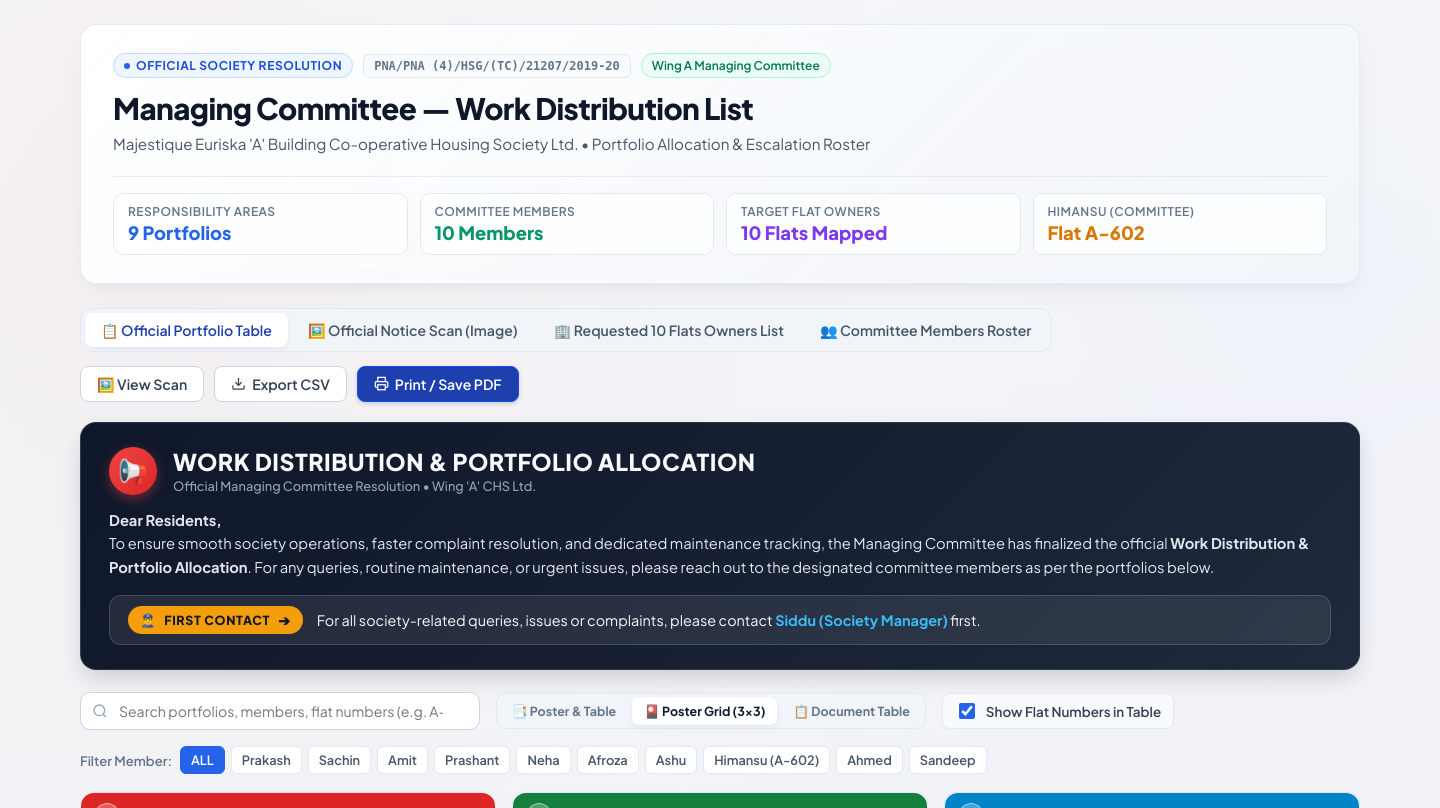
Test: WorkDistributionList Component › switches to Official Notice Scan tab and renders the original image
The image size is (1440, 808).
Click the tab "🖼️ Official Notice Scan (Image)": (413, 330) top-left (292, 313), bottom-right (534, 347)
(page scrolled)
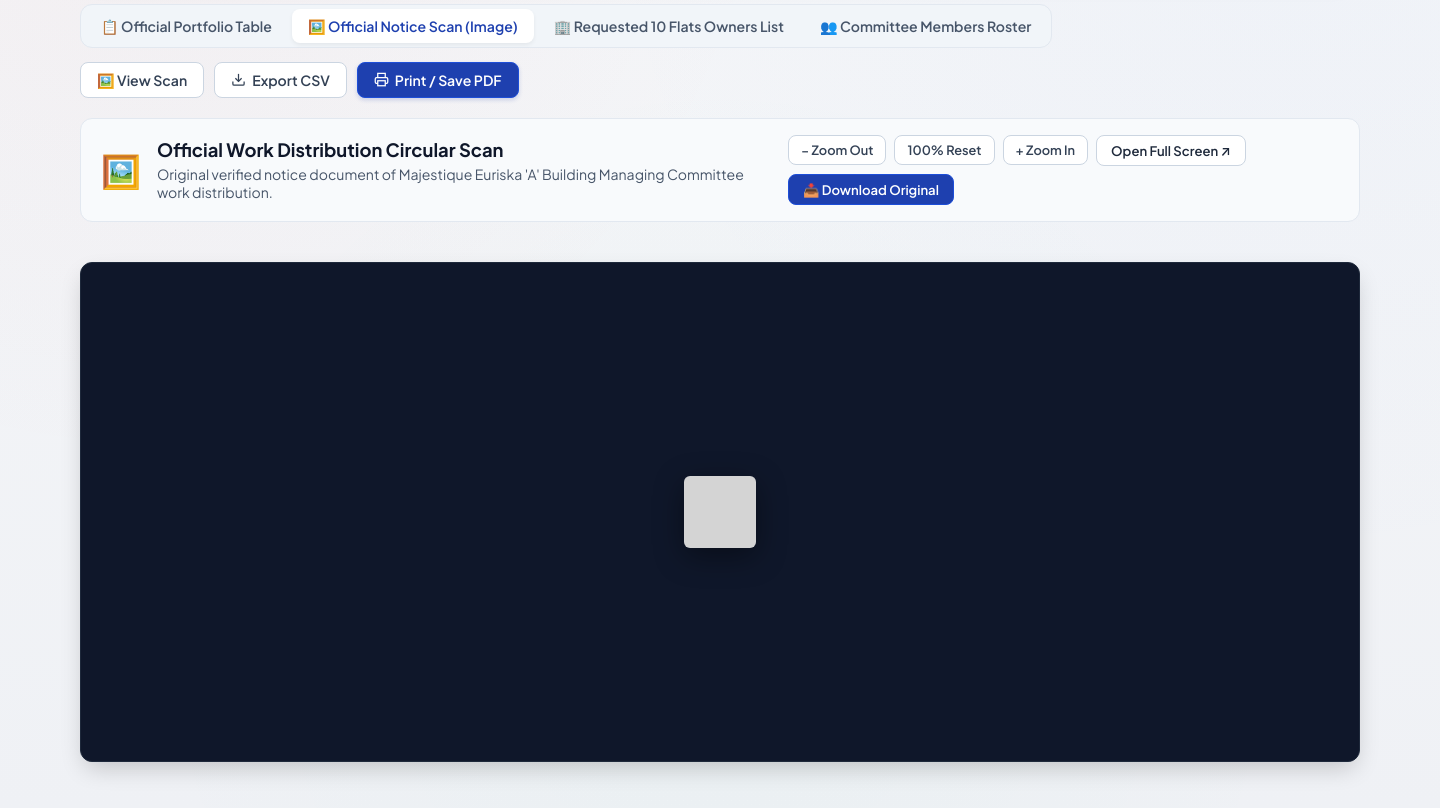
Result: the heading "Official Work Distribution Circular Scan" is shown at top-left (157, 138), bottom-right (504, 161)
